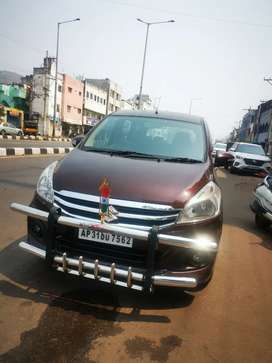AP310U7562: (77, 226, 132, 248)
